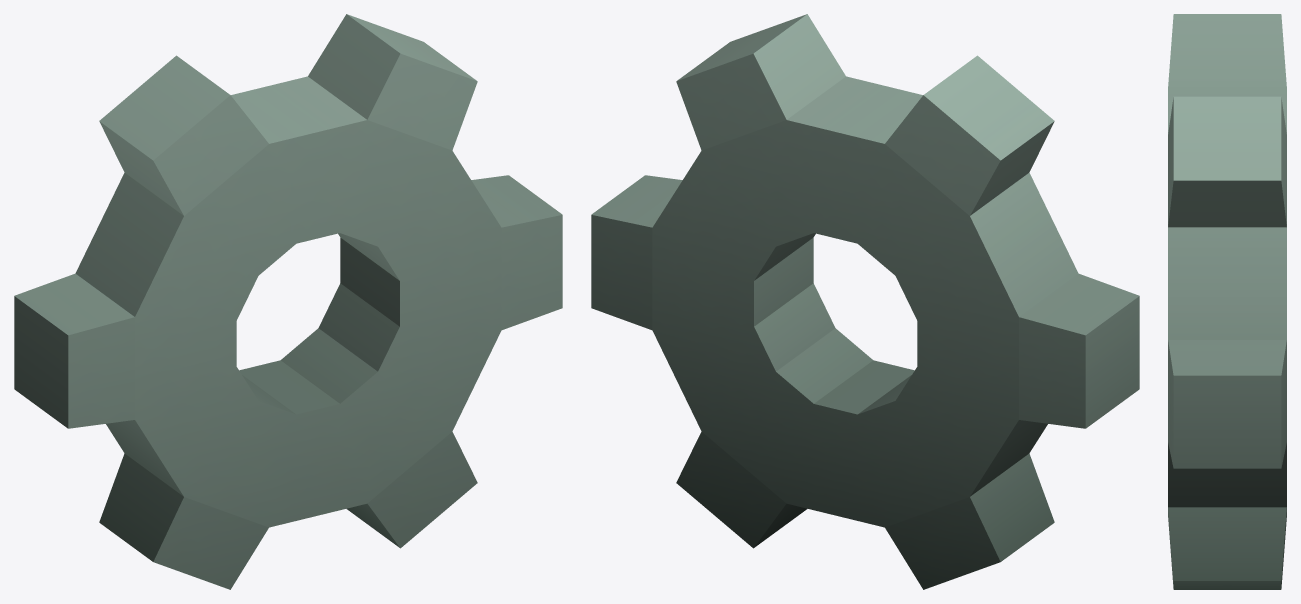
File: item_017.fbx
The picture shows the model from 3 angles, left to right: view 1: azimuth 30°, elevation 25°; view 2: azimuth 150°, elevation 25°; view 3: azimuth 270°, elevation 25°; orthographic projection.
Parts seen in each view (by area): view 1: item.017; view 2: item.017; view 3: item.017.
Boxes of the visible parts, box(x1,y1,x2,y2) form: item.017: box(14, 14, 562, 589); item.017: box(591, 14, 1139, 589); item.017: box(1168, 14, 1286, 589).
Size of the model in its own units: 133 by 128 by 27.82.
